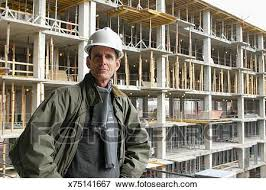Person_wearing_helmet: (72, 21, 131, 64)
